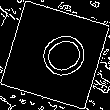O_SW: (22, 24, 88, 86)
